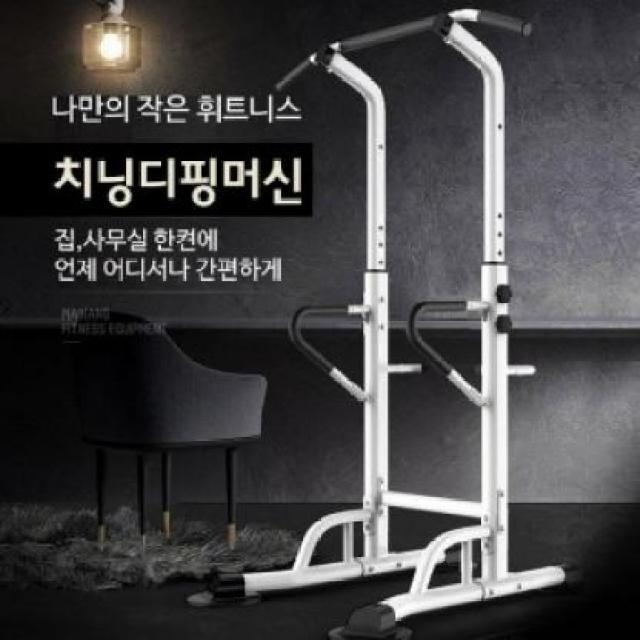chinning dipping: (277, 3, 583, 640)
